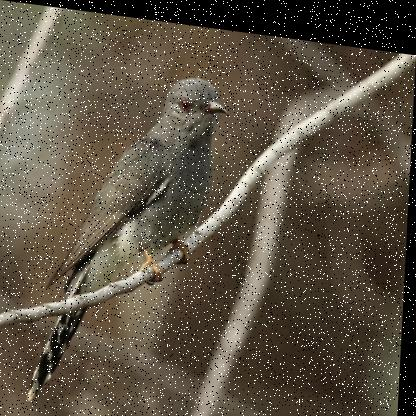Burung: (31, 55, 229, 415)
